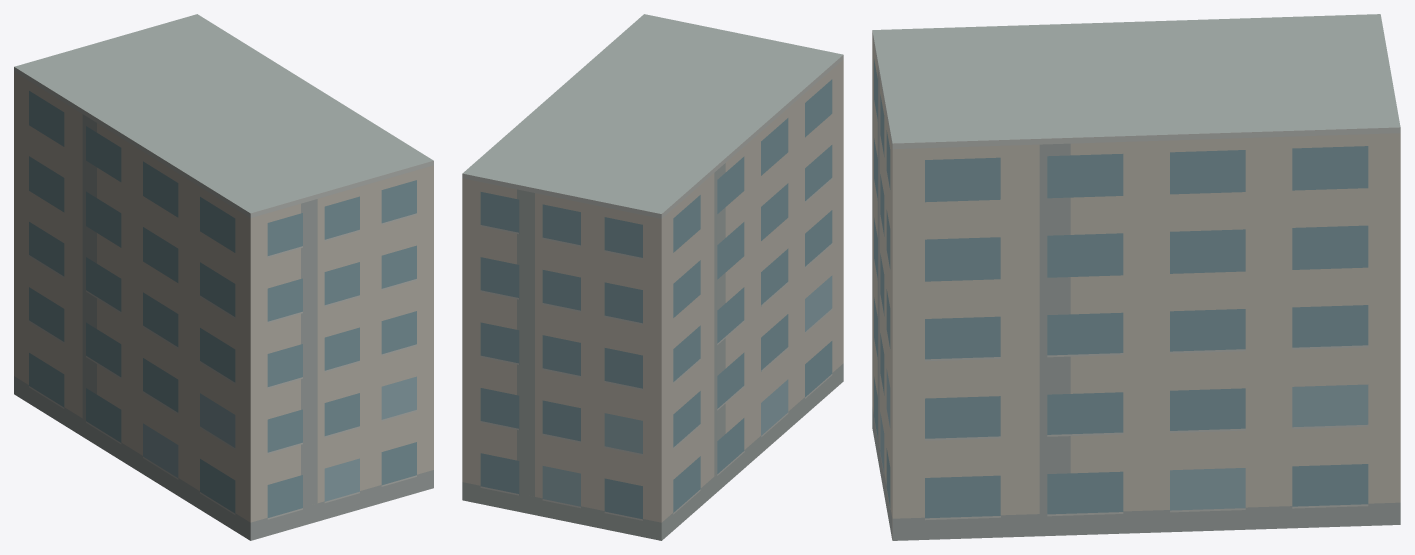
File: survey-upis-32620392.glb
The picture shows the model from 3 angles, left to right: view 1: azimuth 30°, elevation 25°; view 2: azimuth 150°, elevation 25°; view 3: azimuth 270°, elevation 25°; orthographic projection. The views are drawn at different scales.
Visible parts, largest first — view 1: survey-upis-32620392.tmp; view 2: survey-upis-32620392.tmp; view 3: survey-upis-32620392.tmp.
Boxes of the visible parts, x1=… form: survey-upis-32620392.tmp: x1=14, y1=14, x2=433, y2=540; survey-upis-32620392.tmp: x1=462, y1=14, x2=843, y2=540; survey-upis-32620392.tmp: x1=872, y1=14, x2=1400, y2=540.
Size of the model in its own units: 11.82 by 16.9 by 20.37.
